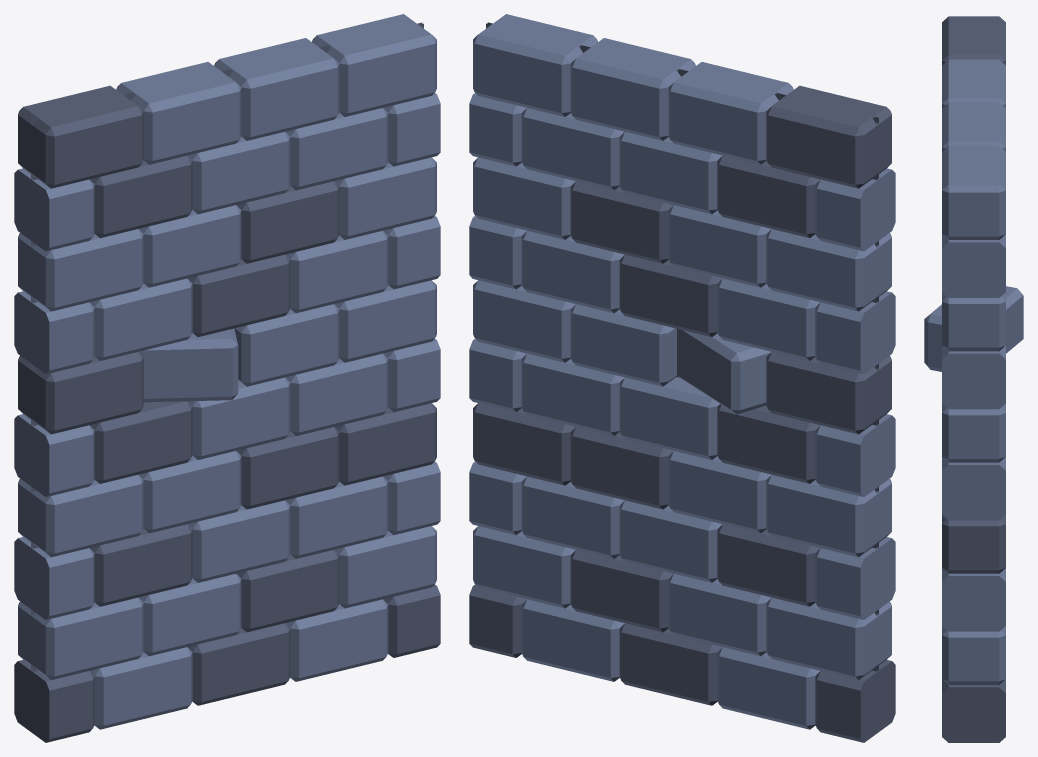
Rendered from wall_002.glb.
3 renders of one model, left to right at view 1: azimuth 30°, elevation 25°; view 2: azimuth 150°, elevation 25°; view 3: azimuth 270°, elevation 25°, orthographic. The views are drawn at different scales.
Visible parts, largest first — view 1: wall.002; view 2: wall.002; view 3: wall.002.
Part boxes in pixels (bbox=[...]): wall.002: bbox=[14, 14, 440, 742]; wall.002: bbox=[469, 14, 895, 742]; wall.002: bbox=[924, 16, 1023, 742].
Size of the model in its own units: 2 by 3 by 0.4842.
